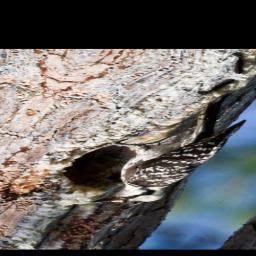Woodpecker: (60, 80, 256, 220)
